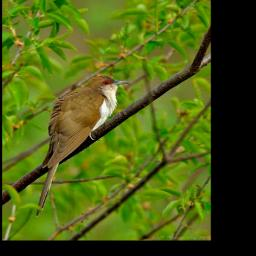Cuckoo: (35, 73, 129, 218)
